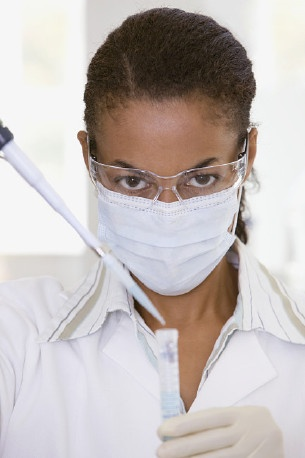Mask: (89, 138, 247, 296)
